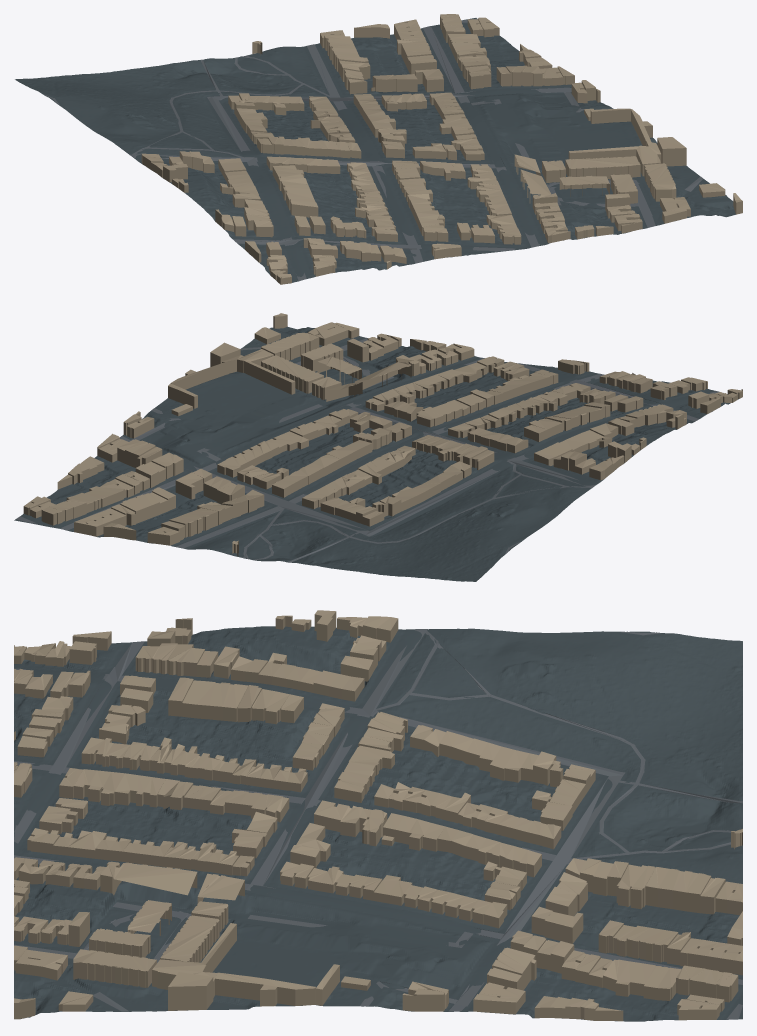
Rendered from epsg26910-1435-10873.lod0.glb.
3 renders of one model, top to bottom at view 1: azimuth 30°, elevation 25°; view 2: azimuth 150°, elevation 25°; view 3: azimuth 270°, elevation 25°, orthographic. The views are drawn at different scales.
Parts seen in each view (by area): view 1: epsg26910-1435-10873-lod0; view 2: epsg26910-1435-10873-lod0; view 3: epsg26910-1435-10873-lod0.
Part boxes in pixels (bbox=[...]): epsg26910-1435-10873-lod0: bbox=[15, 14, 742, 284]; epsg26910-1435-10873-lod0: bbox=[14, 313, 742, 581]; epsg26910-1435-10873-lod0: bbox=[14, 610, 742, 1021].
Size of the model in its own units: 384 by 60.18 by 384.
